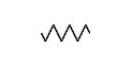resistor: (35, 18, 92, 44)
